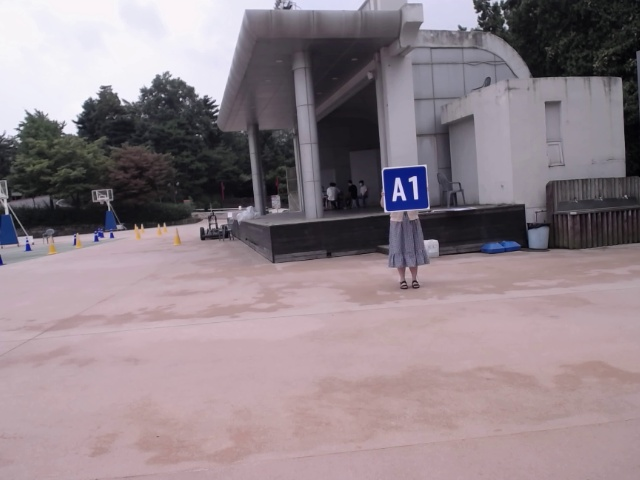delivery_a1: (382, 166, 430, 212)
